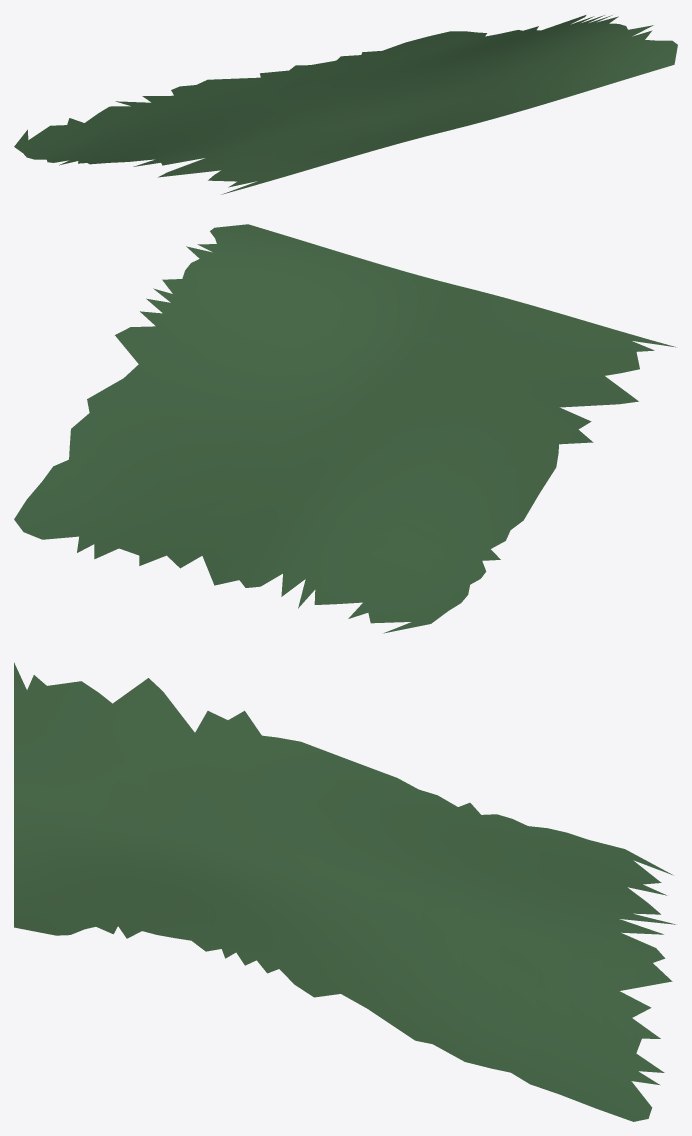
Rendered from payo_land_x2_y10.glb.
3 views of the same model, one above another, from view 1: azimuth 30°, elevation 25°; view 2: azimuth 150°, elevation 25°; view 3: azimuth 270°, elevation 25° (orthographic). The views are drawn at different scales.
Visible parts, largest first — view 1: payo_land_x2_y10; view 2: payo_land_x2_y10; view 3: payo_land_x2_y10.
Boxes of the visible parts, <box> form: payo_land_x2_y10: <box>14,15,677,194</box>; payo_land_x2_y10: <box>14,224,675,633</box>; payo_land_x2_y10: <box>14,662,675,1121</box>.
Size of the model in its own units: 285 by 86.61 by 254.
